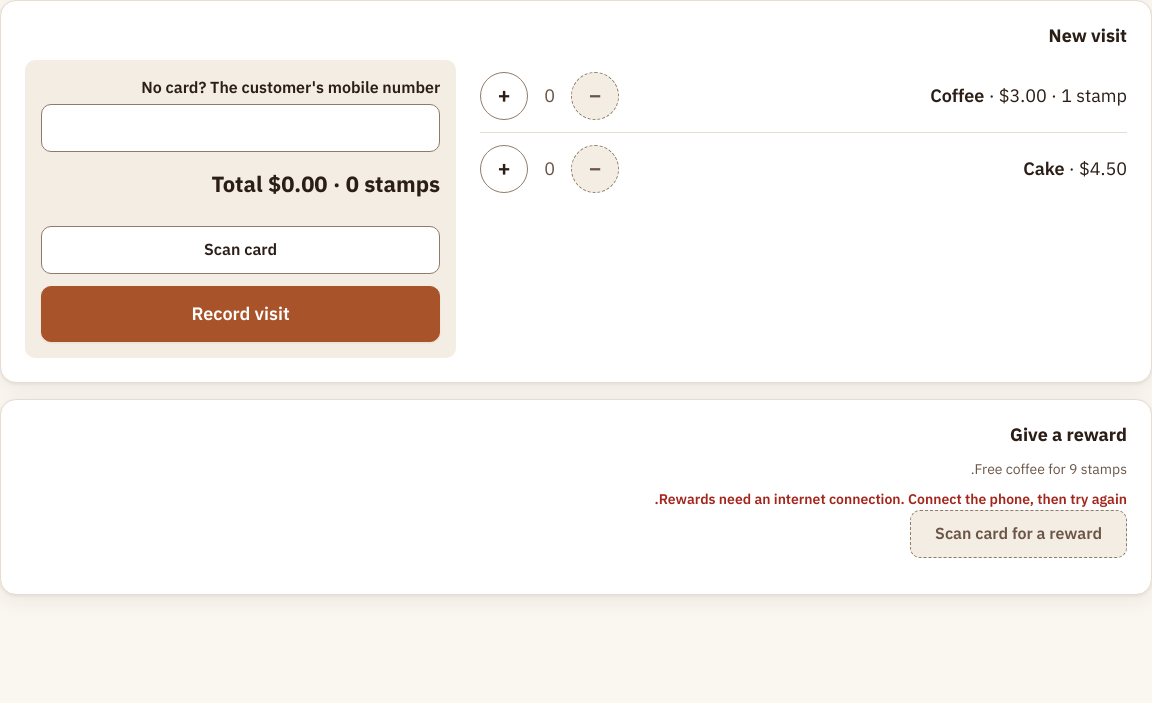
it: visits › says an offline visit is sent once the phone is online
The width and height of the screenshot is (1152, 703).
Step 1. Click the button named "One more Coffee" → (504, 96), box [480,72,528,120]
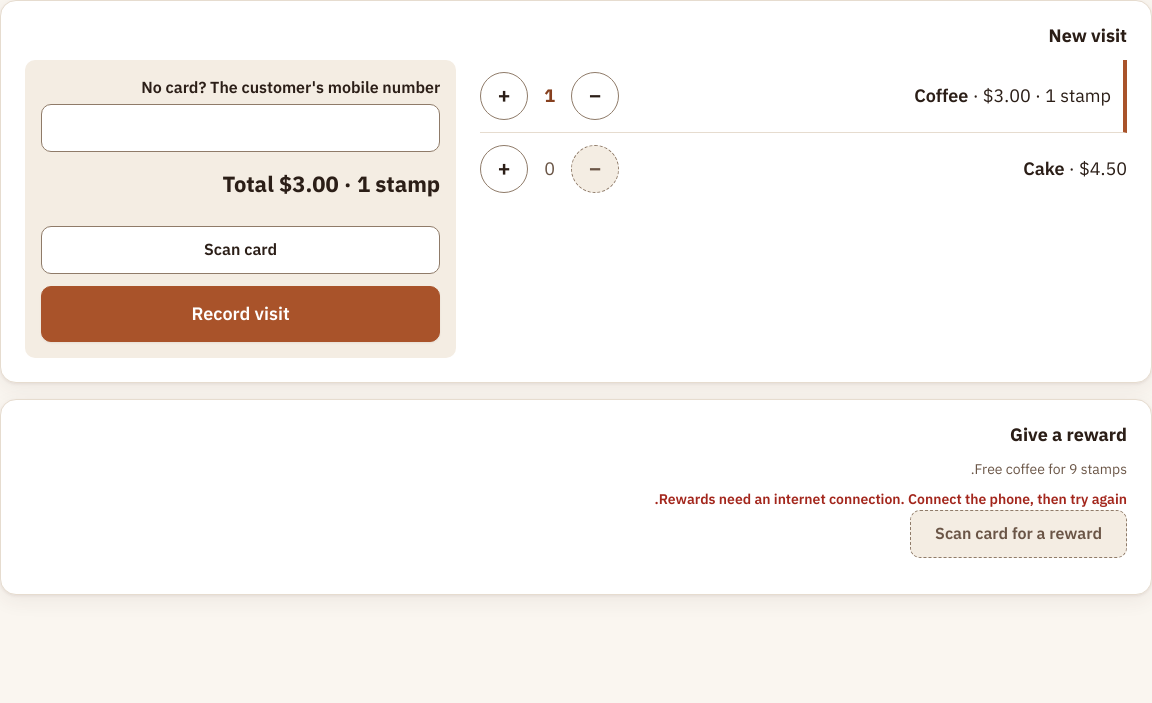
Step 2. Type "70 123 456" into the field labelled "No card? The customer's mobile number" → (241, 128), box [41,104,440,152]
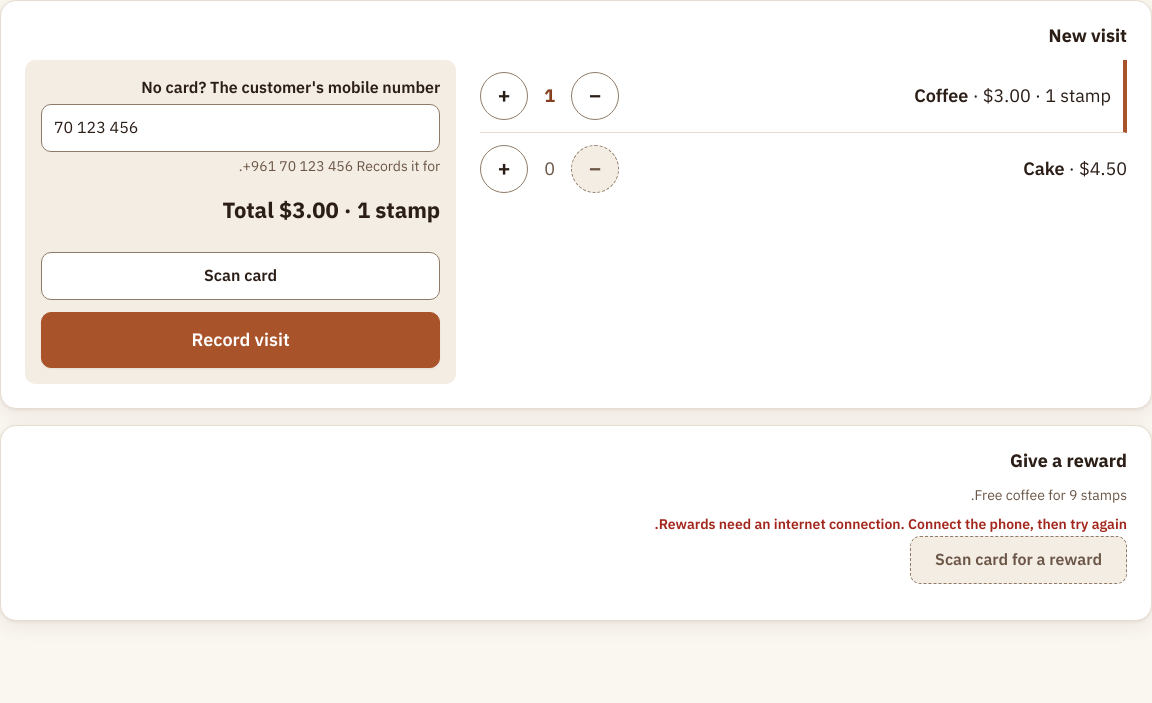
Step 3. Click the button "Record visit" → (241, 340), box [41,312,440,368]
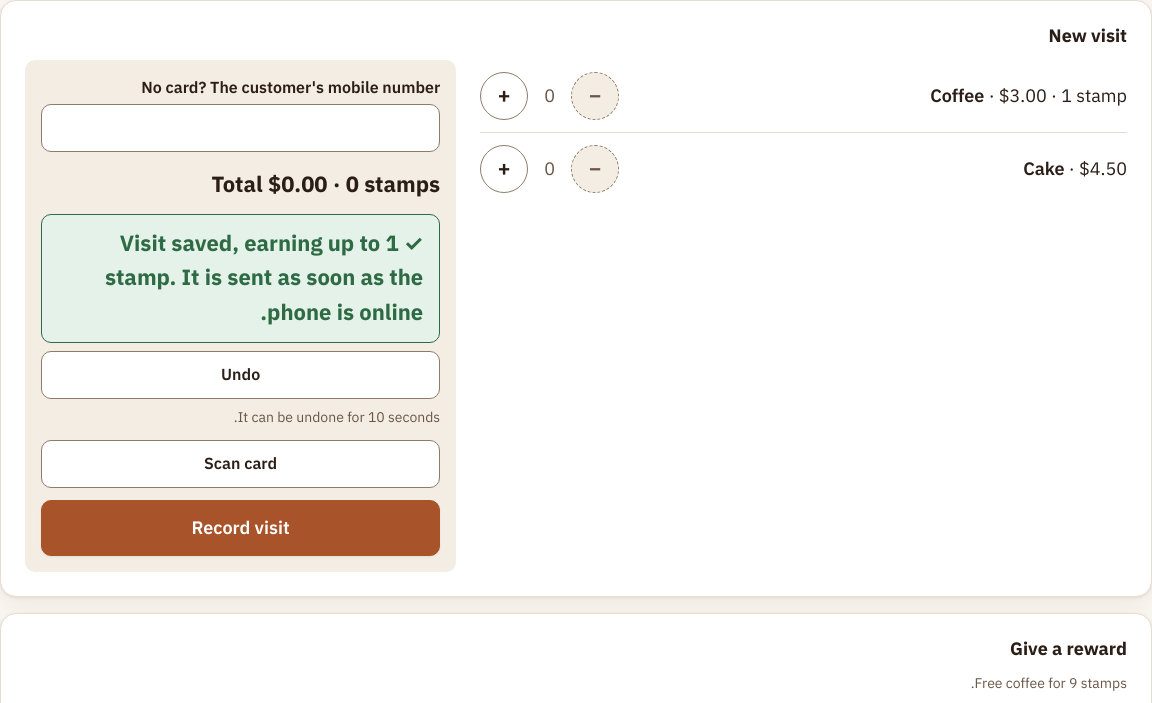
expect the text "Visit saved, earning up to 1 stamp. It is sent as soon as the phone is online." is shown: met, box [41,214,440,343]
